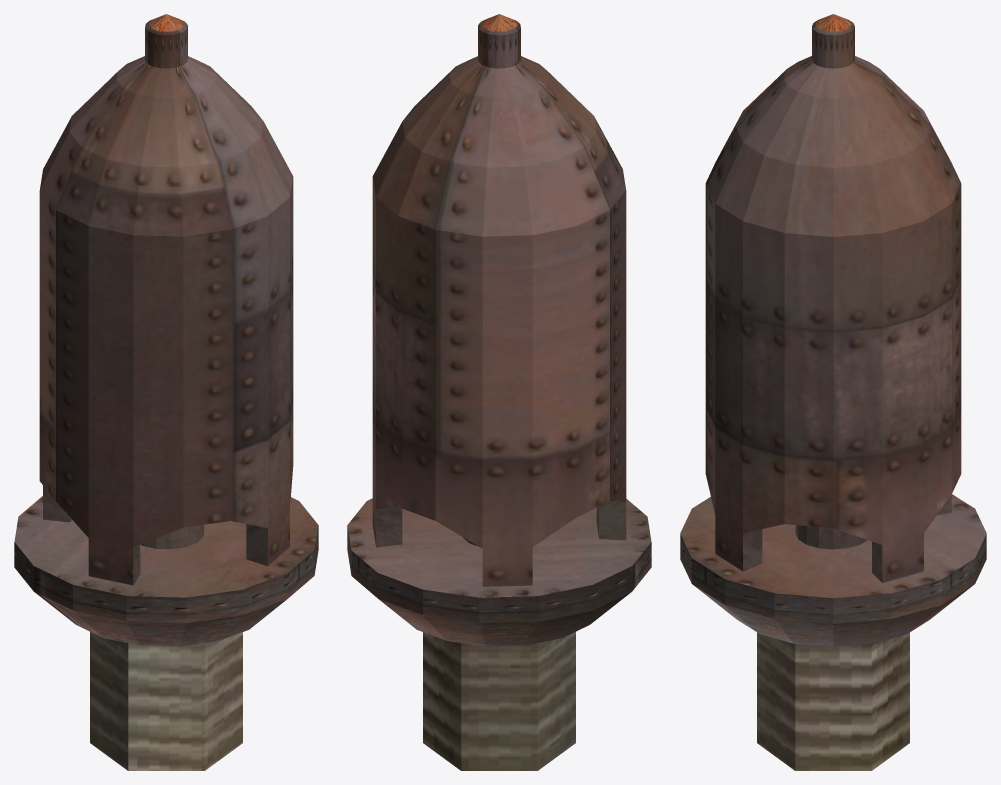
File: SteamWhistle.fbx
3 renders of one model, left to right at view 1: azimuth 30°, elevation 25°; view 2: azimuth 150°, elevation 25°; view 3: azimuth 270°, elevation 25°, orthographic.
Parts seen in each view (by area): view 1: SteamWhistle; view 2: SteamWhistle; view 3: SteamWhistle.
Boxes of the visible parts, box(x1,y1,x2,y2) form: SteamWhistle: box(14, 14, 318, 770); SteamWhistle: box(347, 14, 651, 770); SteamWhistle: box(680, 14, 986, 770).
Size of the model in its own units: 1.2 by 3.15 by 1.2.
